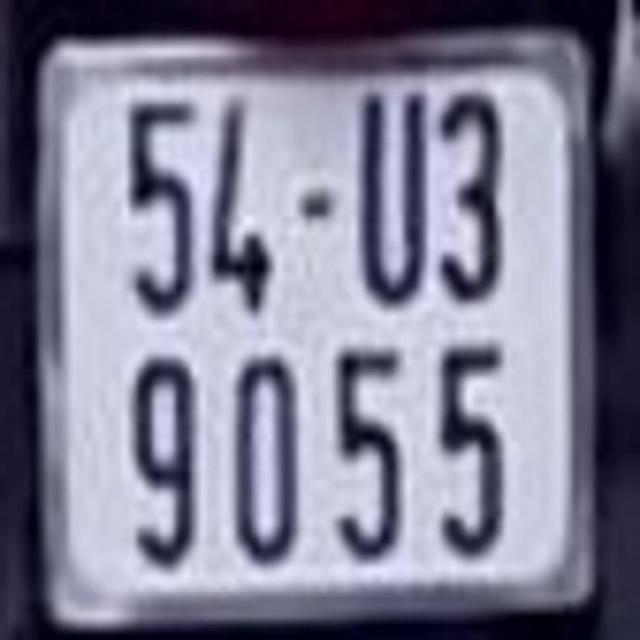0: (231, 361, 300, 553)
3: (438, 96, 501, 300)
4: (210, 100, 280, 308)
5: (428, 340, 511, 550), (122, 104, 200, 308), (344, 354, 404, 553)
9: (127, 358, 201, 560)
U: (352, 88, 434, 301)
